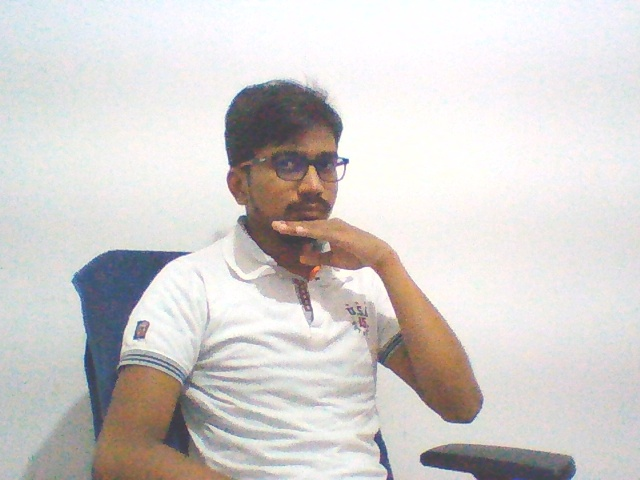elephant: (264, 210, 414, 274)
